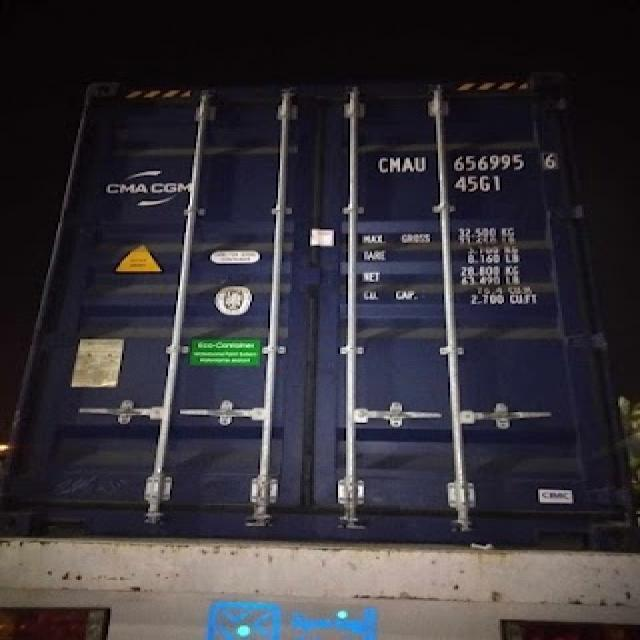ISO: (454, 173, 504, 196)
container_number: (384, 146, 556, 174)
